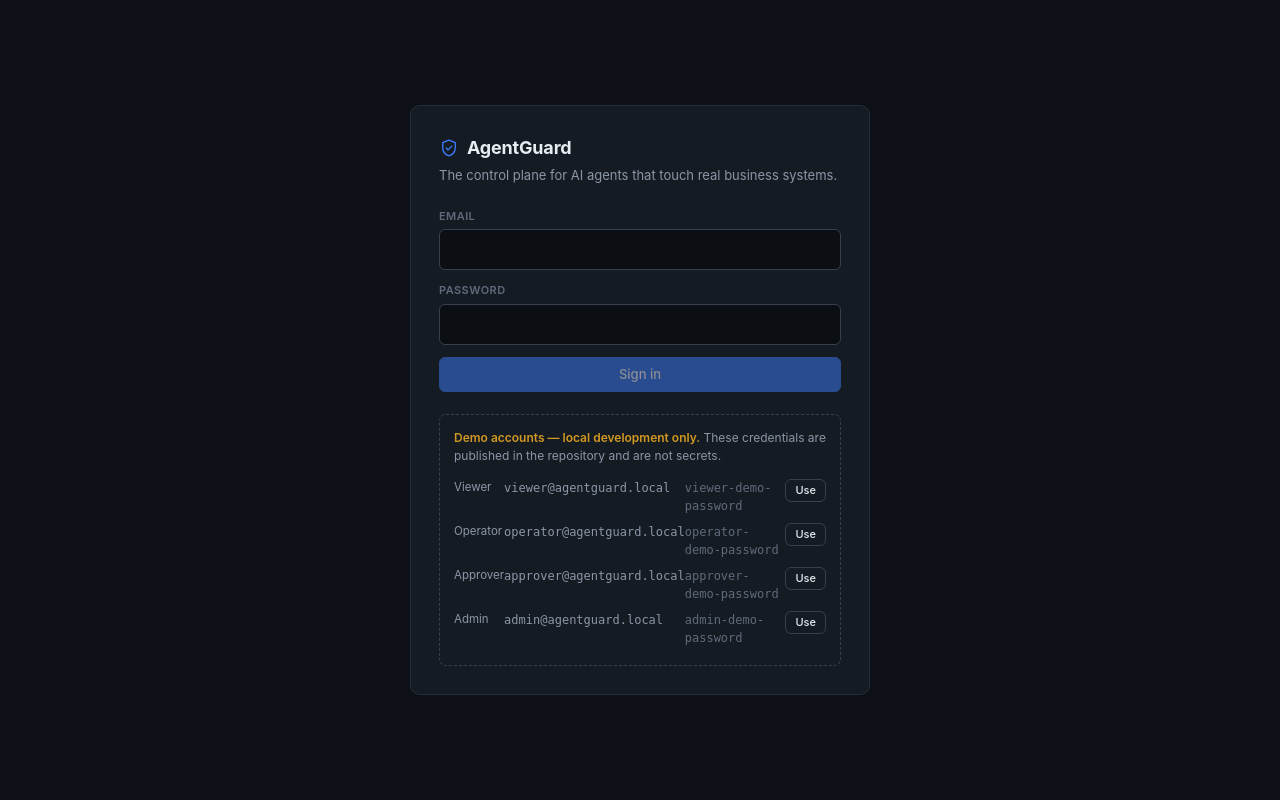
Test case: authentication › signs in and stores the token for the tab
Type "operator@agentguard.local" into the field labelled "Email" at coordinates (640, 250), box [439,229,841,270]
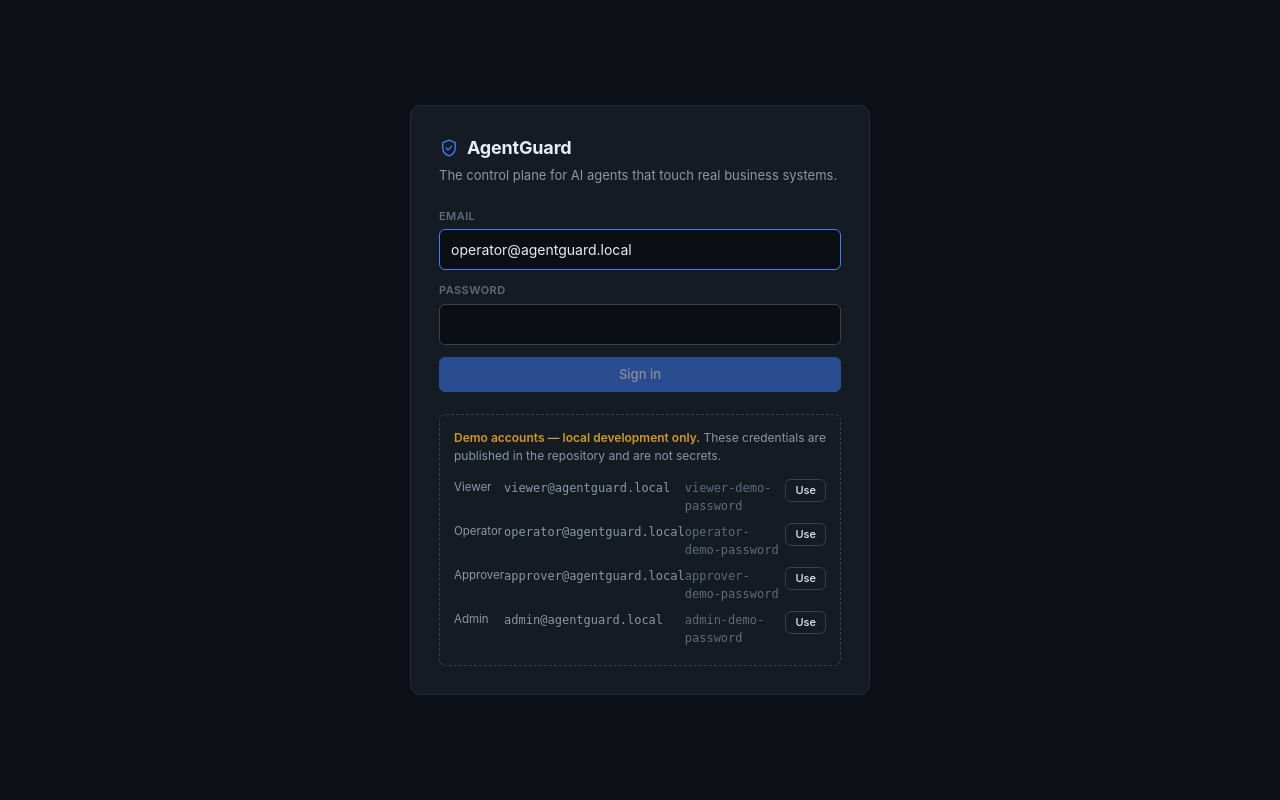
Type "operator-demo-password" into the password field labelled "Password" at coordinates (640, 324), box [439,304,841,344]
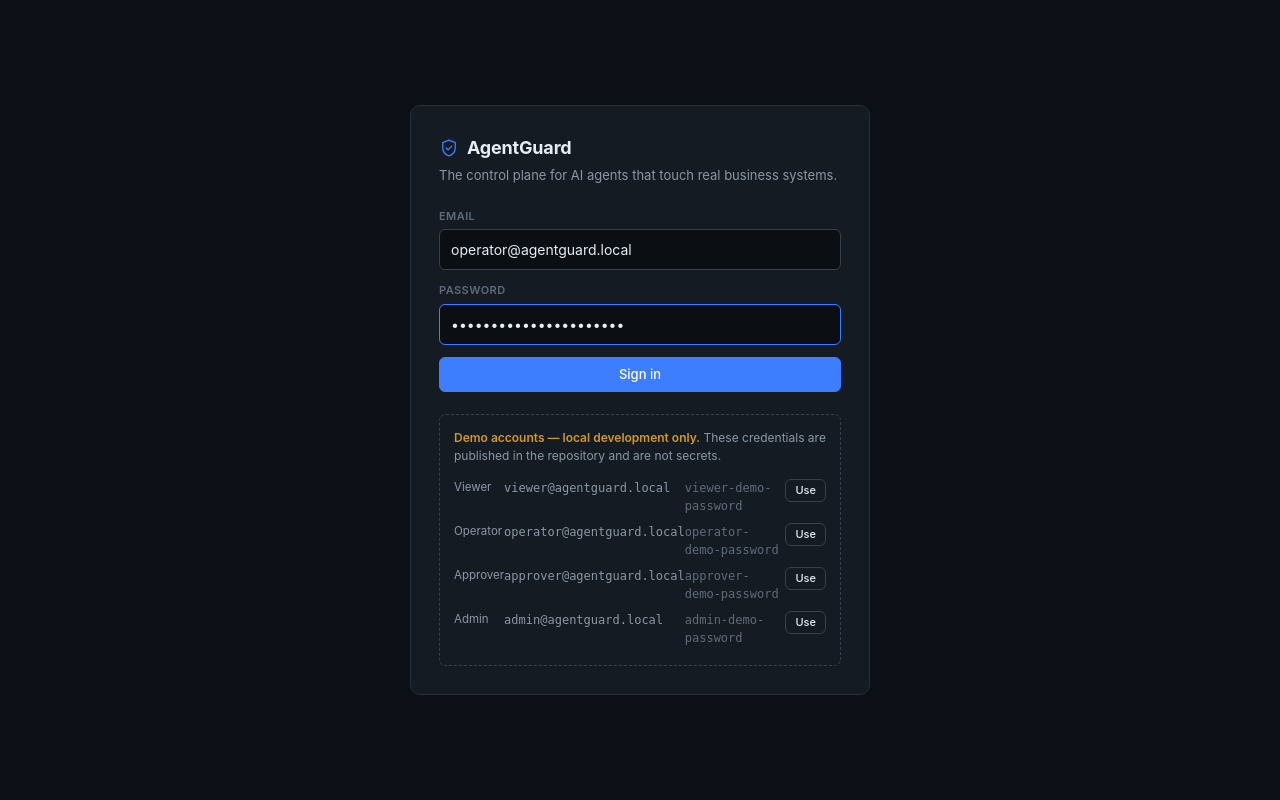
Click the button "Sign in" at coordinates (640, 374), box [439,356,841,392]
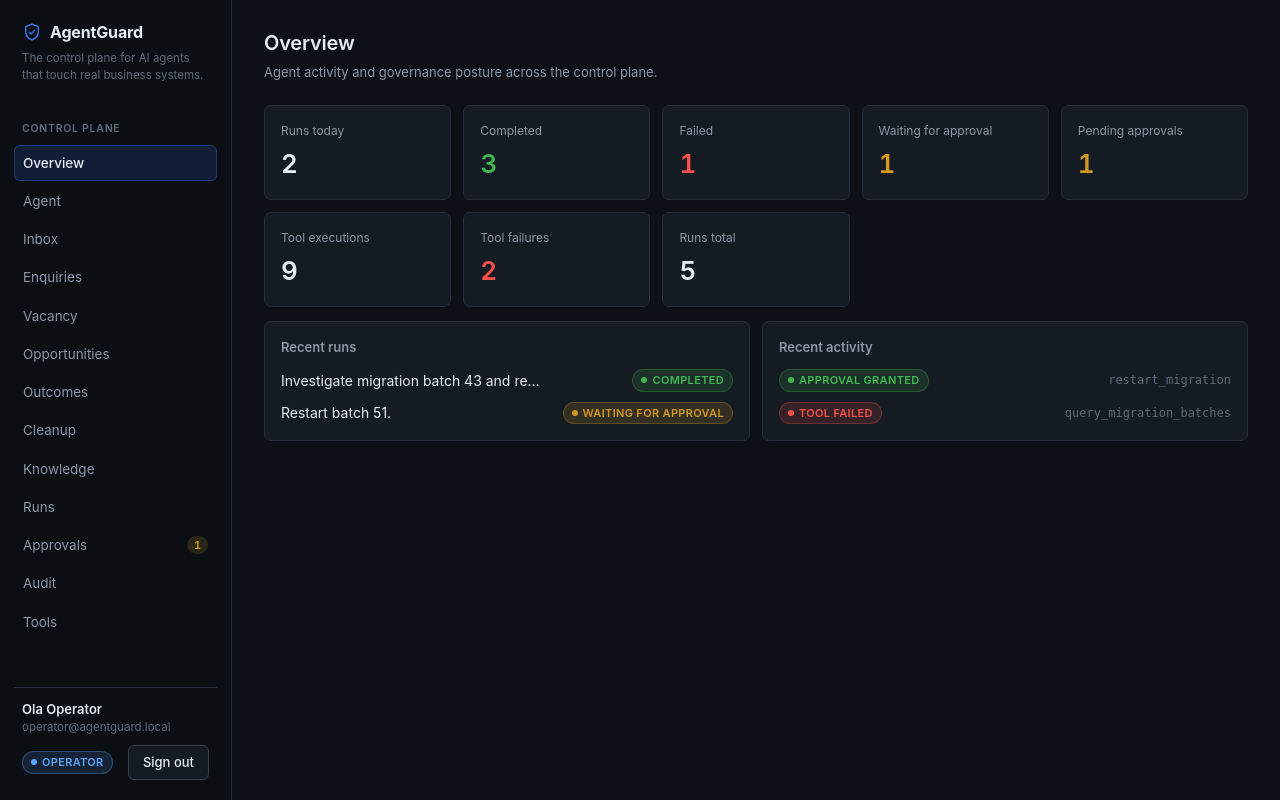
expect the navigation bar is shown: met, box [14,121,217,640]
